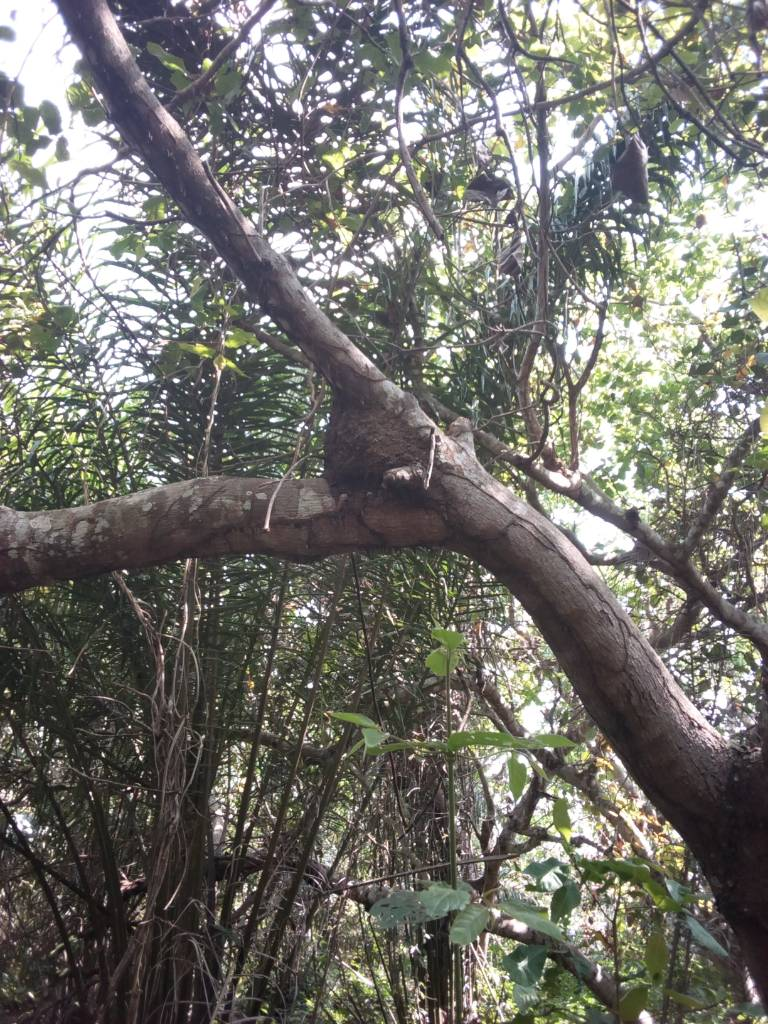Termites: (325, 396, 410, 488)
